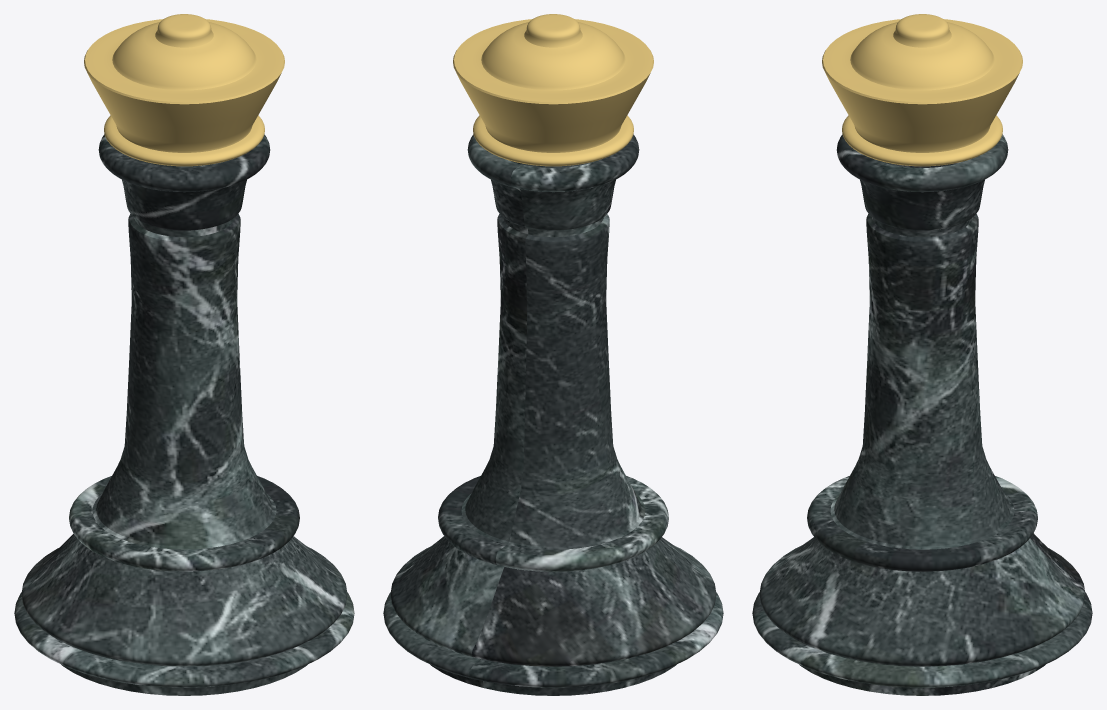
3 renders of one model, left to right at view 1: azimuth 30°, elevation 25°; view 2: azimuth 150°, elevation 25°; view 3: azimuth 270°, elevation 25°, orthographic.
Visible parts, largest first — view 1: x; view 2: x; view 3: x.
Part boxes in pixels (x1,y1,x2,y2): x: (14,14,354,695); x: (383,14,723,695); x: (752,14,1092,695).
Bounding box in the file's own units: 0.4512 × 0.9 × 0.4512.
Materials: 2 (1 with a texture image).
